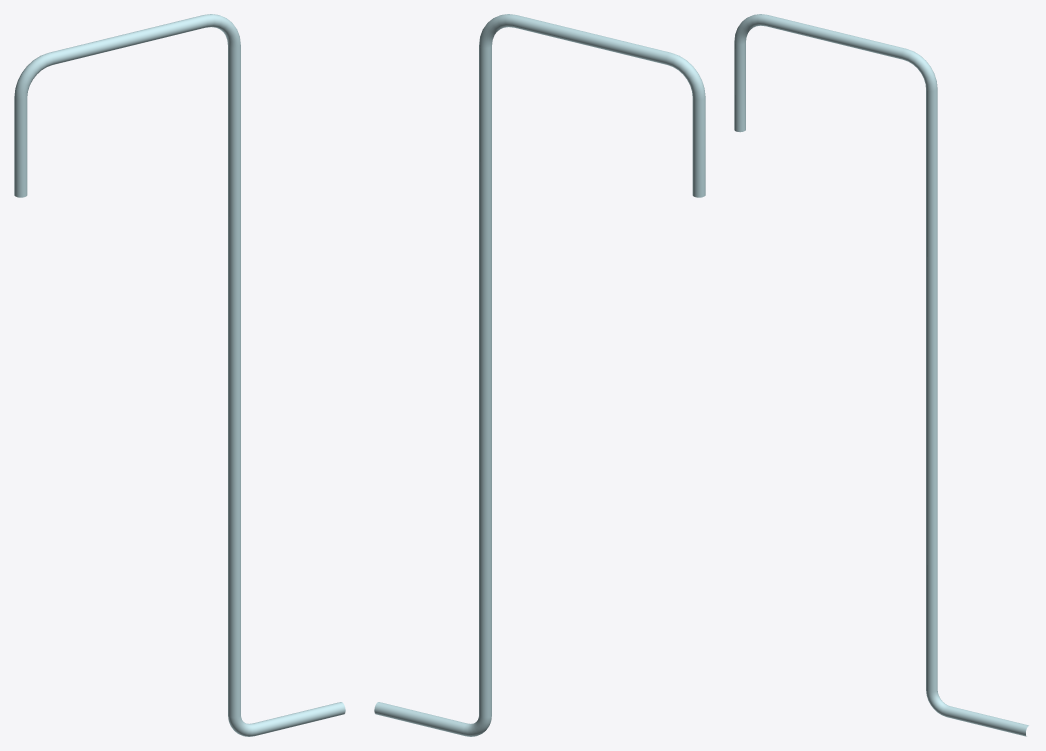
The model's file is connection.glb.
3 renders of one model, left to right at view 1: azimuth 30°, elevation 25°; view 2: azimuth 150°, elevation 25°; view 3: azimuth 330°, elevation 25°, orthographic. The views are drawn at different scales.
Visible parts, largest first — view 1: connection_model; view 2: connection_model; view 3: connection_model.
Boxes of the visible parts, <box> form: connection_model: <box>14,14,345,736</box>; connection_model: <box>374,14,705,736</box>; connection_model: <box>734,14,1028,736</box>.
Size of the model in its own units: 73.61 by 157 by 2.5.
